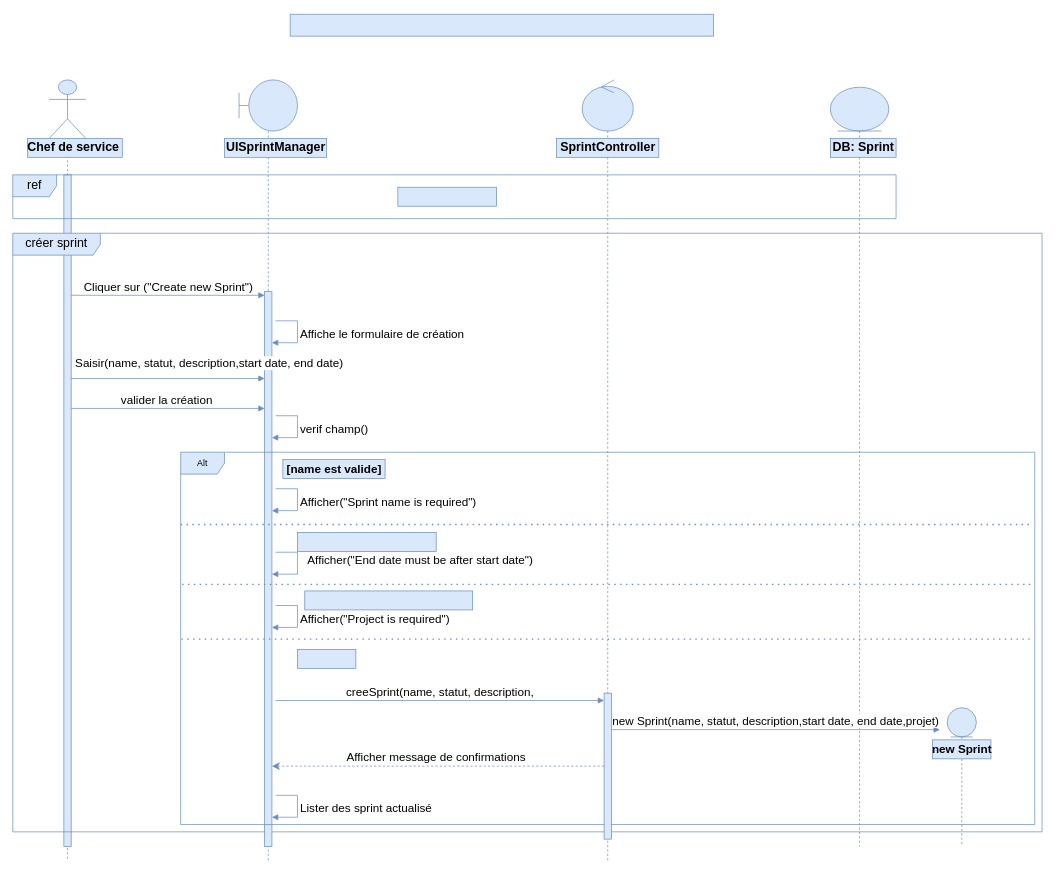
This 1055x874 diagram has some shape labels left out. Here are the shapes that lost their labels. From the top down, the centre of each, then its label:
(501,25): SD Gère les sprints(chef de service)
(446,196): Authentication
(366,542): [endDate==startData]
(388,600): [aucun projet sélectionné ]
(326,658): [else ]
